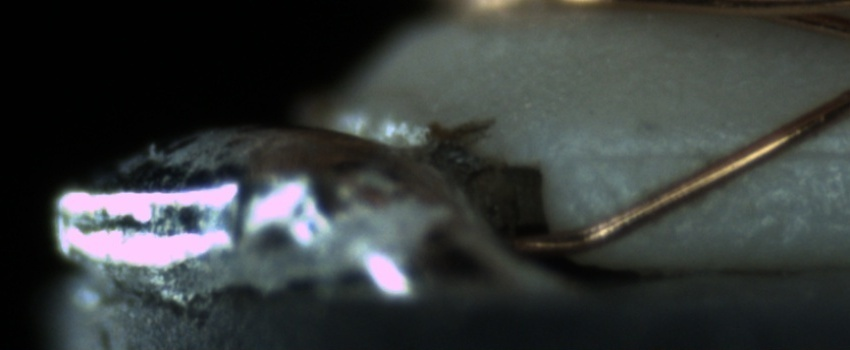DL: (573, 121, 844, 185)
